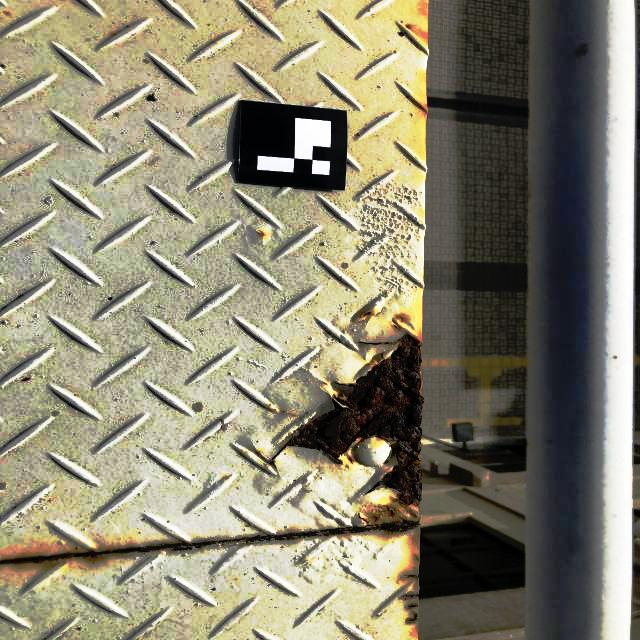Corrosion: (264, 312, 425, 537), (0, 543, 162, 574), (407, 0, 430, 44), (402, 542, 420, 593), (351, 307, 379, 322), (257, 229, 270, 240)
